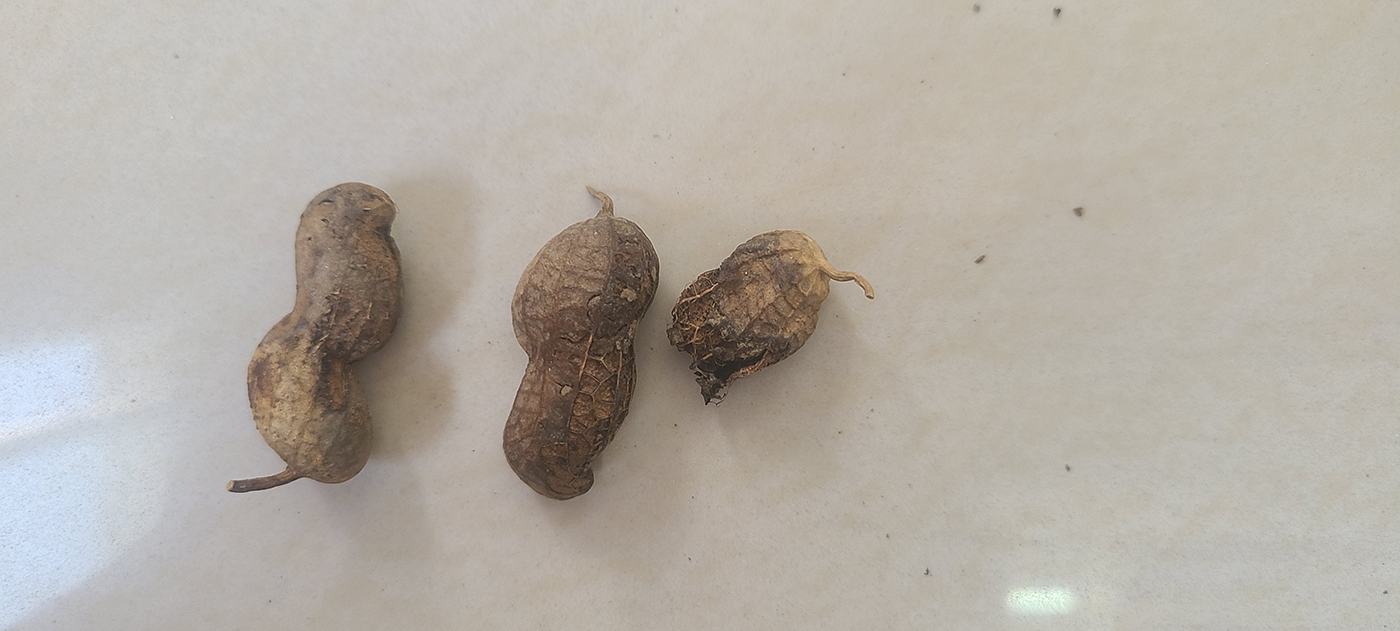l: (244, 177, 404, 489), (499, 208, 661, 499), (667, 226, 834, 409)
